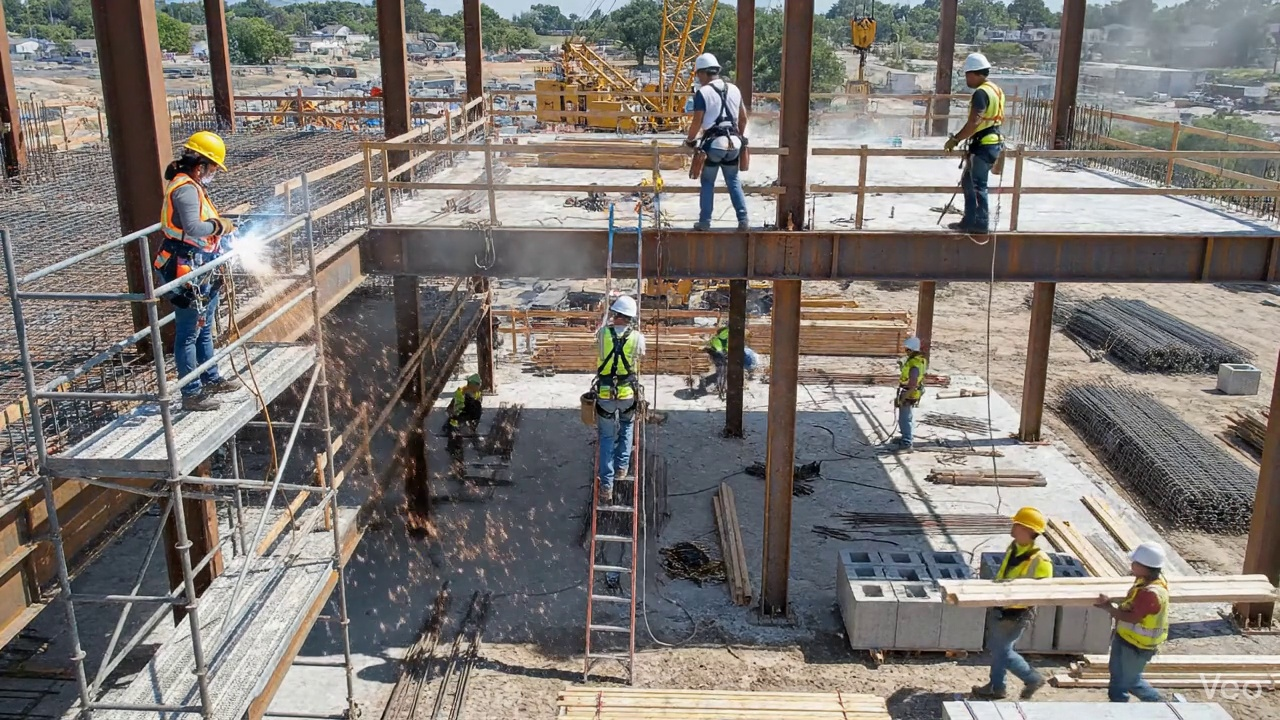PG: (972, 606, 1045, 698), (994, 507, 1053, 581), (894, 336, 925, 448), (444, 373, 482, 464), (697, 326, 728, 400), (461, 473, 462, 474)
PH: (153, 131, 234, 284), (685, 53, 749, 230), (944, 52, 1005, 234), (594, 295, 645, 504), (166, 273, 220, 377), (181, 366, 239, 410)
